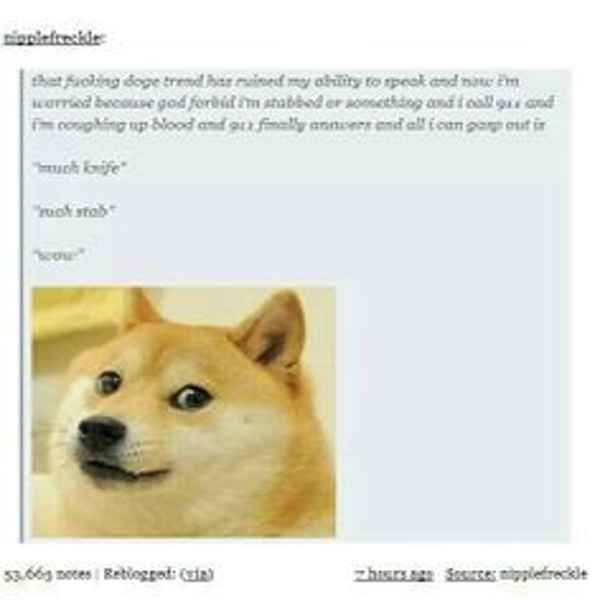doge: (34, 288, 323, 530)
